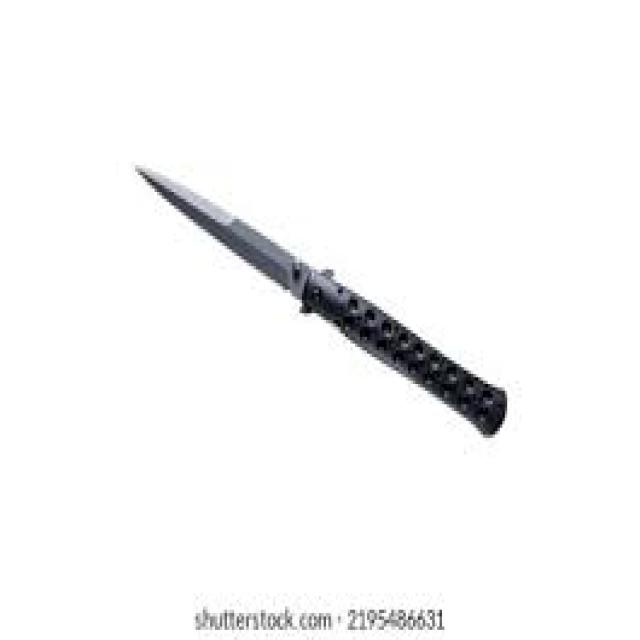Knife: (133, 158, 507, 438)
